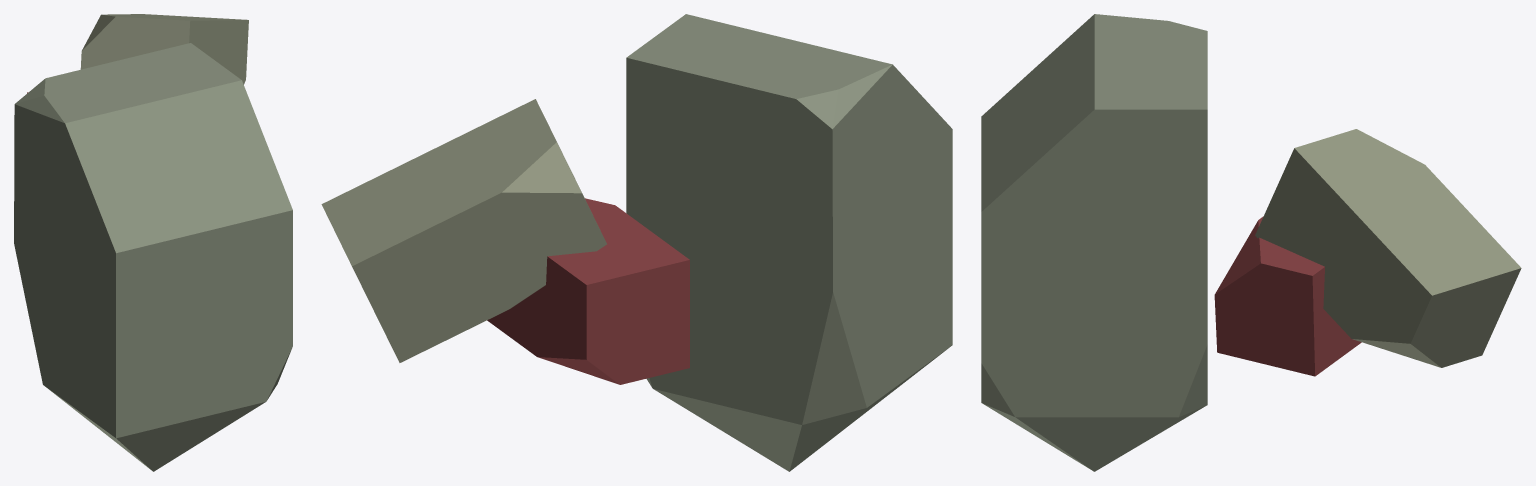
Rendered from railing_half_broken.fbx.
3 views of the same model, side by side, from view 1: azimuth 30°, elevation 25°; view 2: azimuth 150°, elevation 25°; view 3: azimuth 270°, elevation 25° (orthographic). The views are drawn at different scales.
Visible parts, largest first — view 1: railing_half_broken; view 2: railing_half_broken; view 3: railing_half_broken.
Boxes of the visible parts, x1,y1,x2,y2 form: railing_half_broken: [14, 14, 292, 471]; railing_half_broken: [321, 14, 952, 471]; railing_half_broken: [981, 14, 1521, 471].
Bounding box in the file's own units: 95.08 × 100 × 119.
